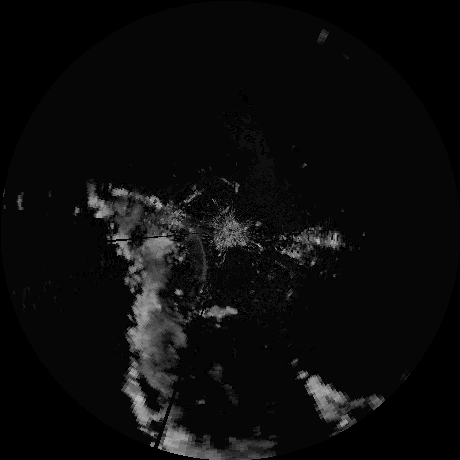frontgust: (191, 229, 208, 287)
